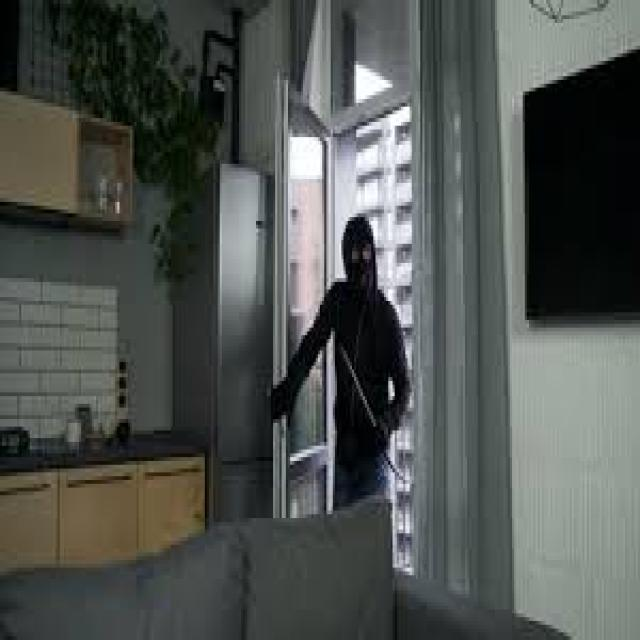intrusion detected: (270, 214, 417, 504)
